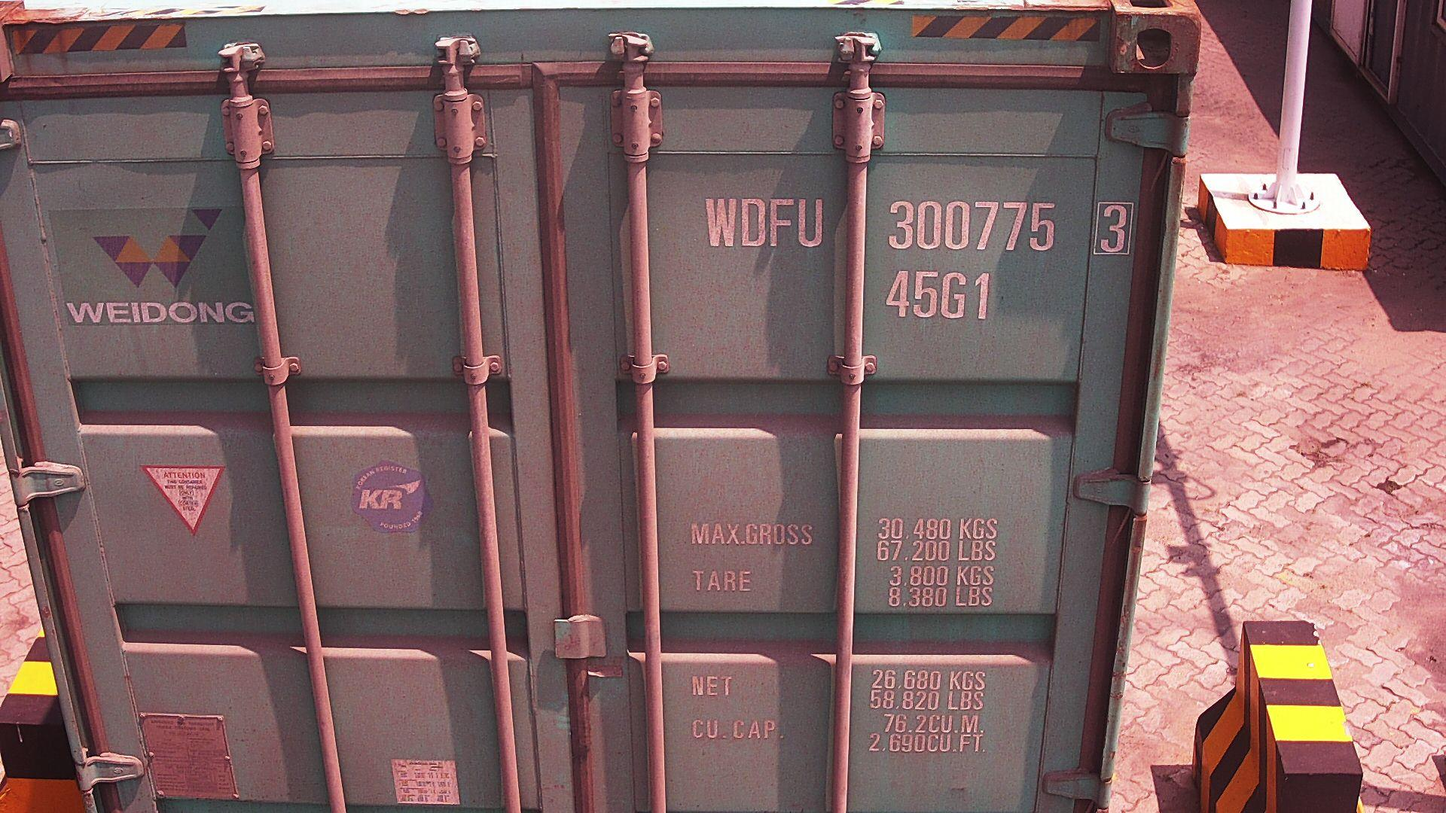container-numbers: (697, 193, 1135, 260), (881, 268, 996, 324)
